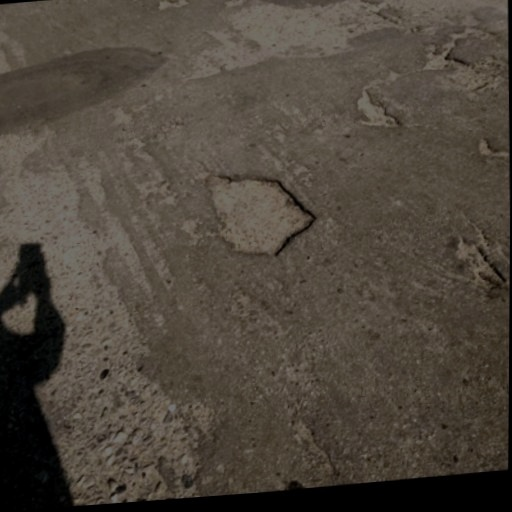pothole: (200, 159, 319, 265), (454, 230, 507, 290), (354, 84, 403, 135), (418, 39, 469, 76)
